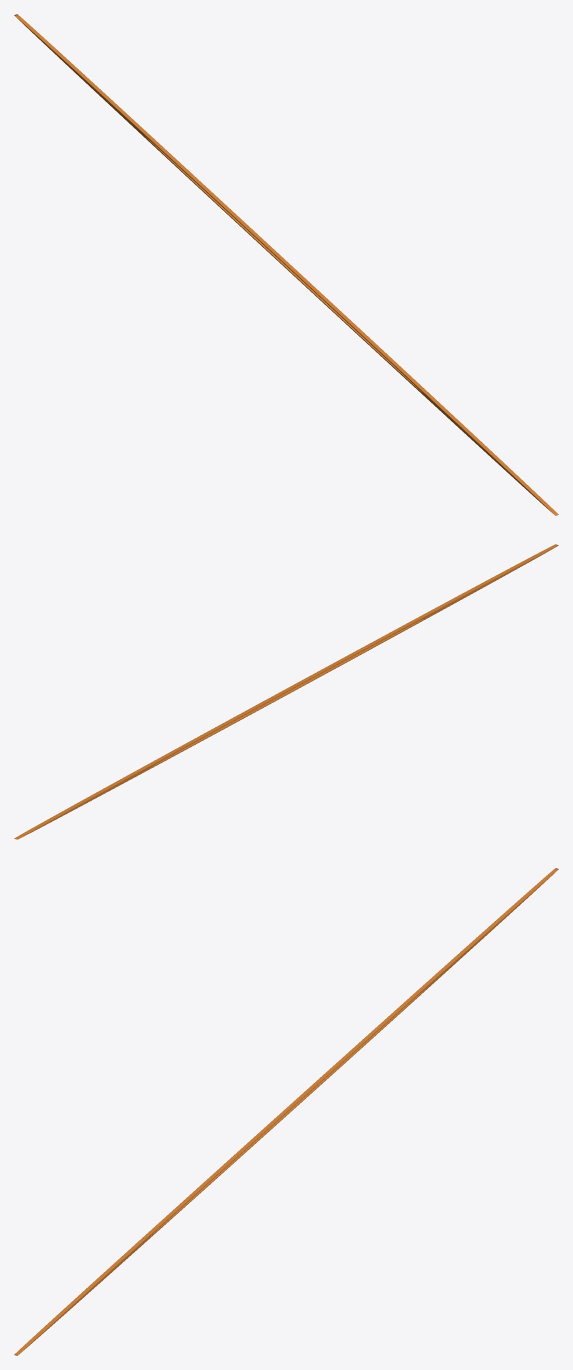
File: asset.glb
3 renders of one model, top to bottom at view 1: azimuth 30°, elevation 25°; view 2: azimuth 150°, elevation 25°; view 3: azimuth 330°, elevation 25°, orthographic. The views are drawn at different scales.
Visible parts, largest first — view 1: Tube; view 2: Tube; view 3: Tube.
Boxes of the visible parts, left/top/right/bottom form: Tube: left=14, top=14, right=558, bottom=515; Tube: left=14, top=544, right=558, bottom=839; Tube: left=14, top=868, right=558, bottom=1355.
Bounding box in the file's own units: 0.1013 × 0.9869 × 9.95.
